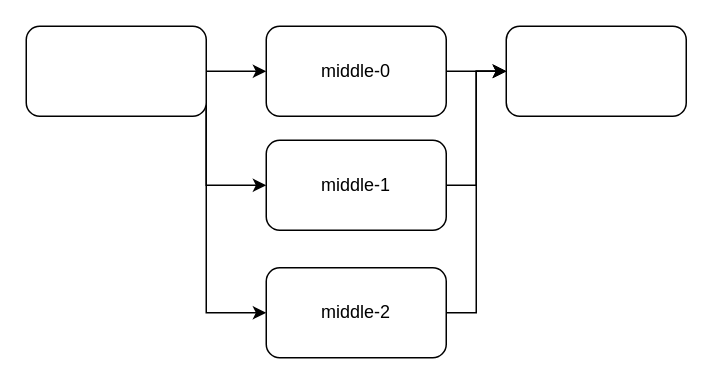
The diagram is 713 pixels wide and 384 high, and some of its shapes have lost their labels. The centre of each missing label's shape, as x and y in pixels:
"end" belongs at [595,70].
"start" belongs at [115,70].
